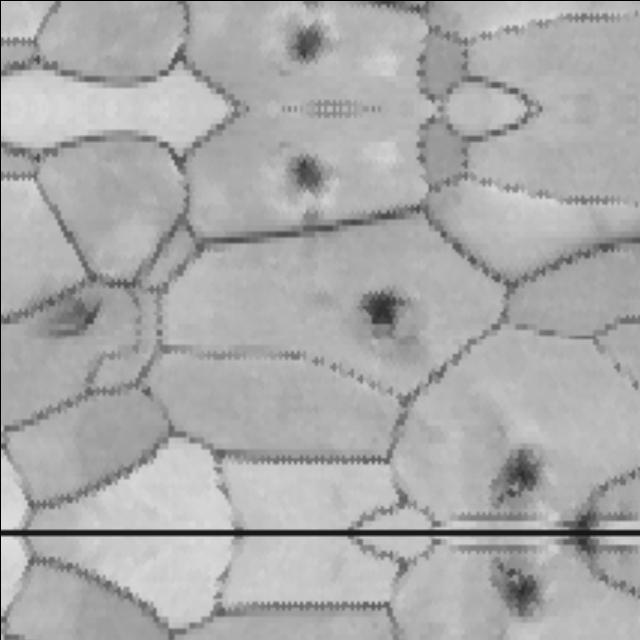good_void: (477, 437, 547, 513), (477, 553, 547, 629), (28, 296, 105, 346), (273, 150, 331, 195), (273, 22, 331, 67), (361, 281, 413, 330)
